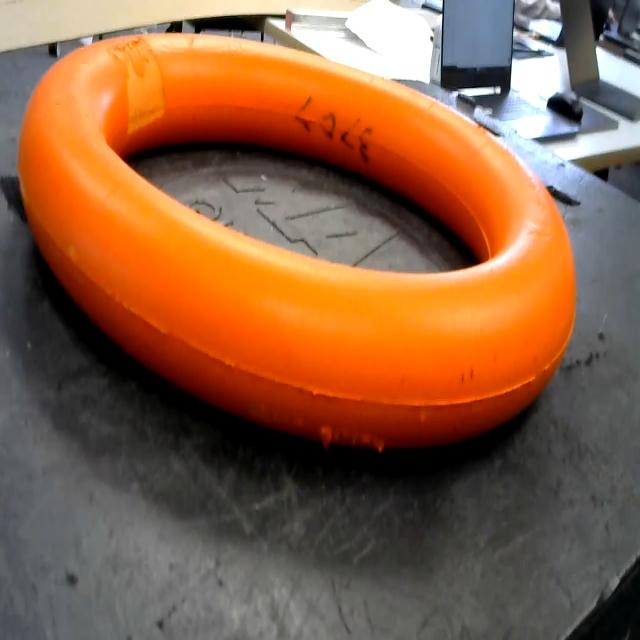note: (13, 33, 599, 460)
